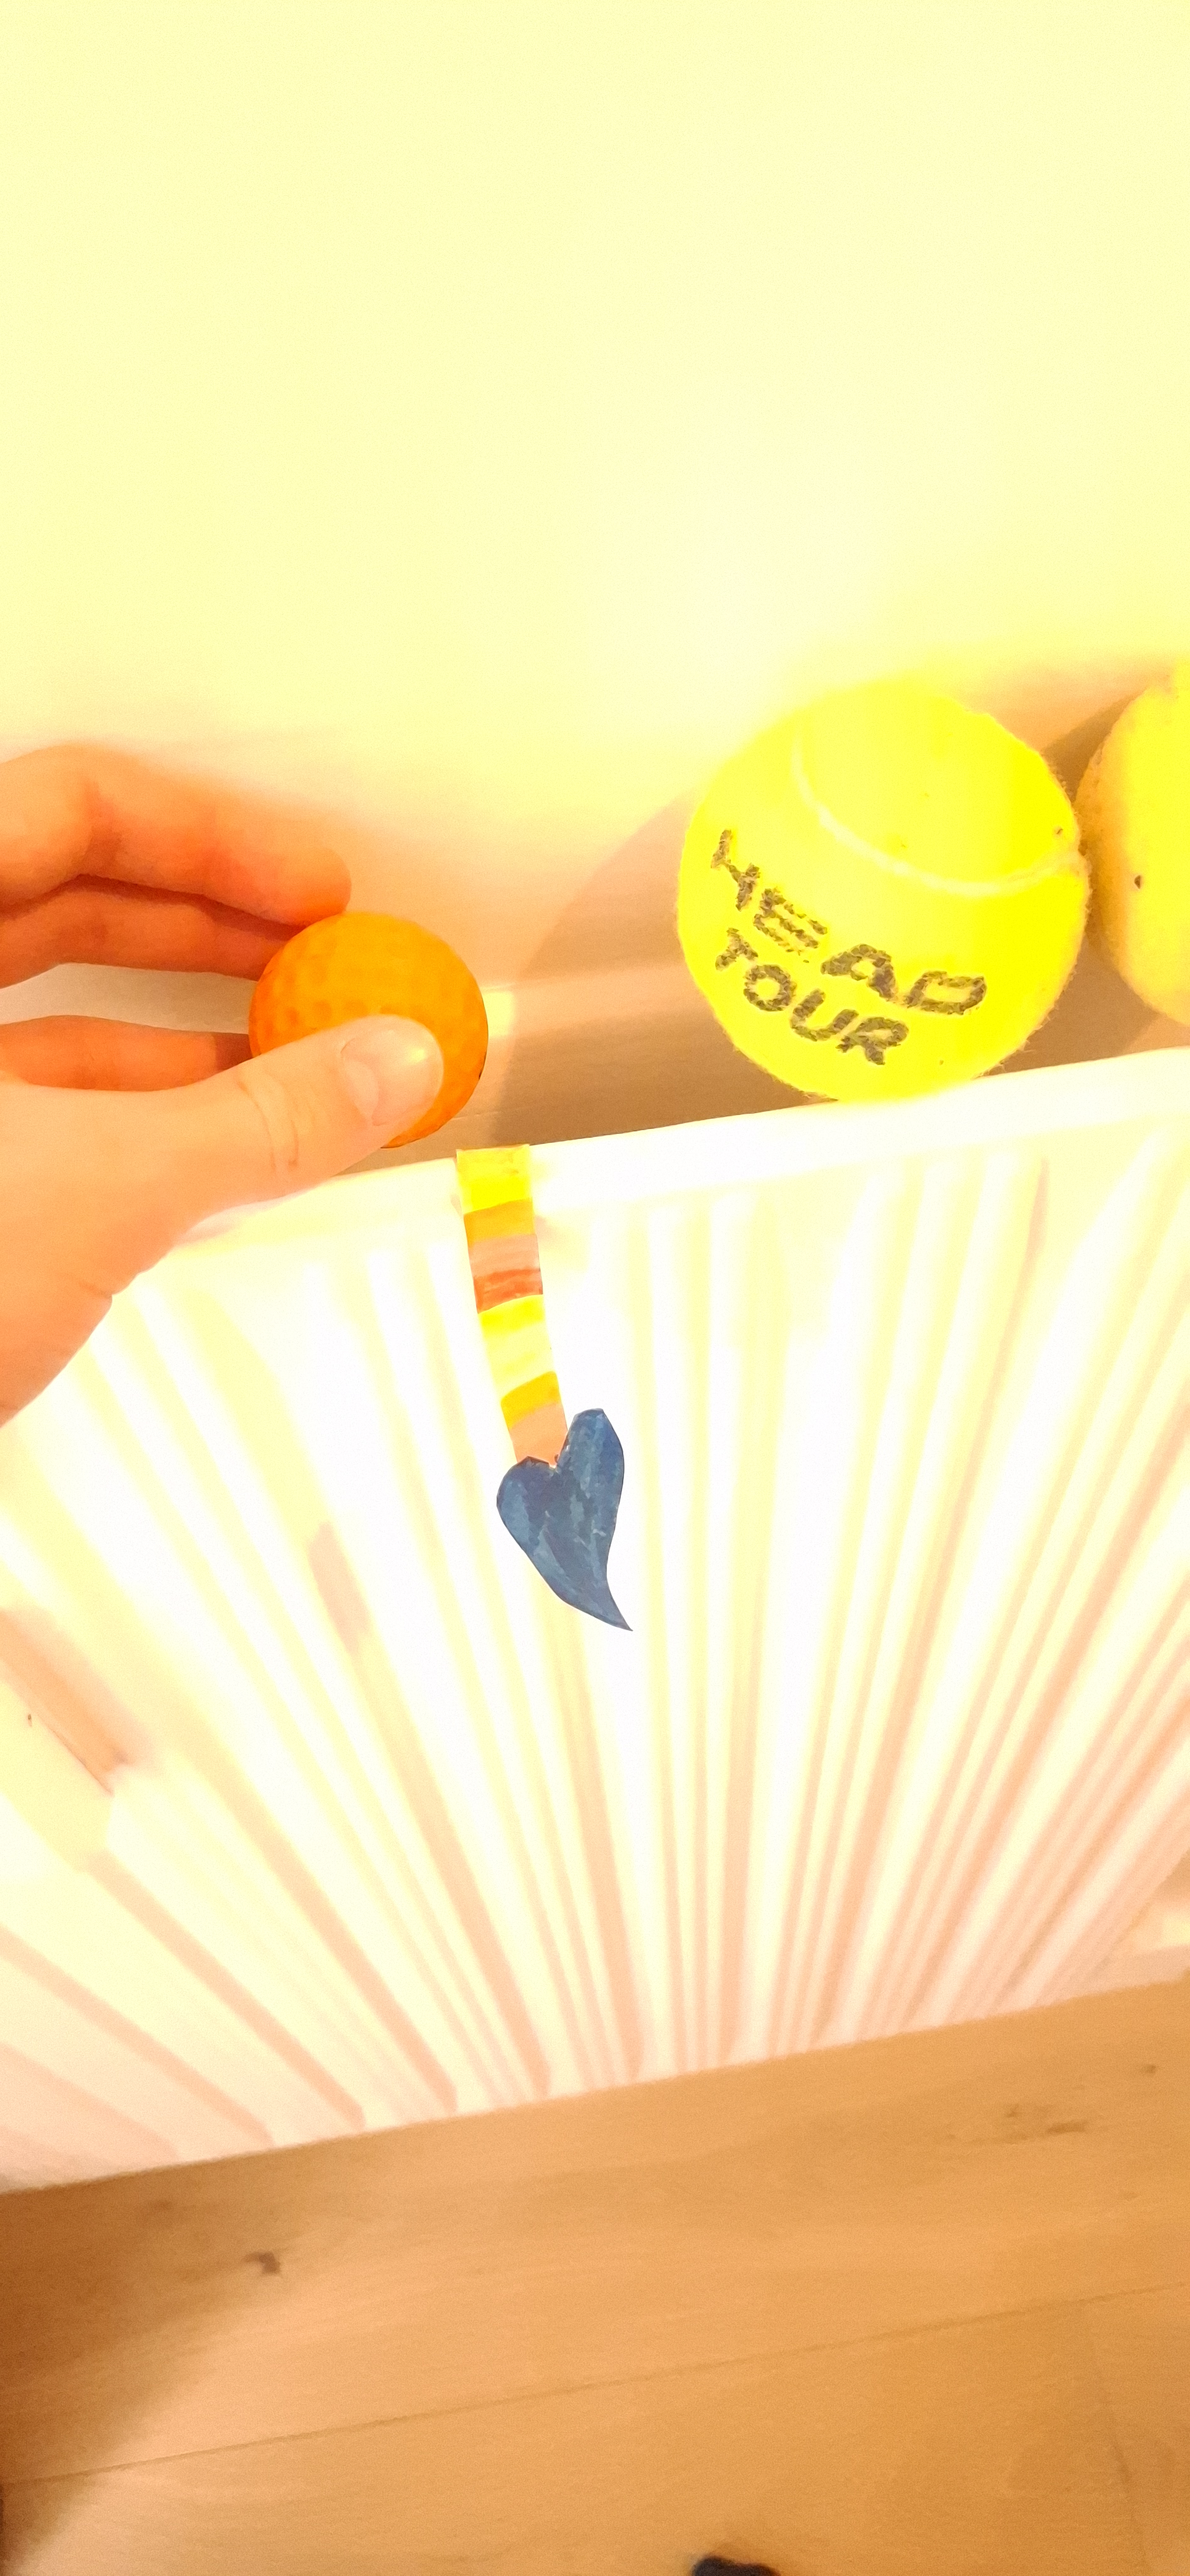ball: (421, 1518, 534, 2049)
